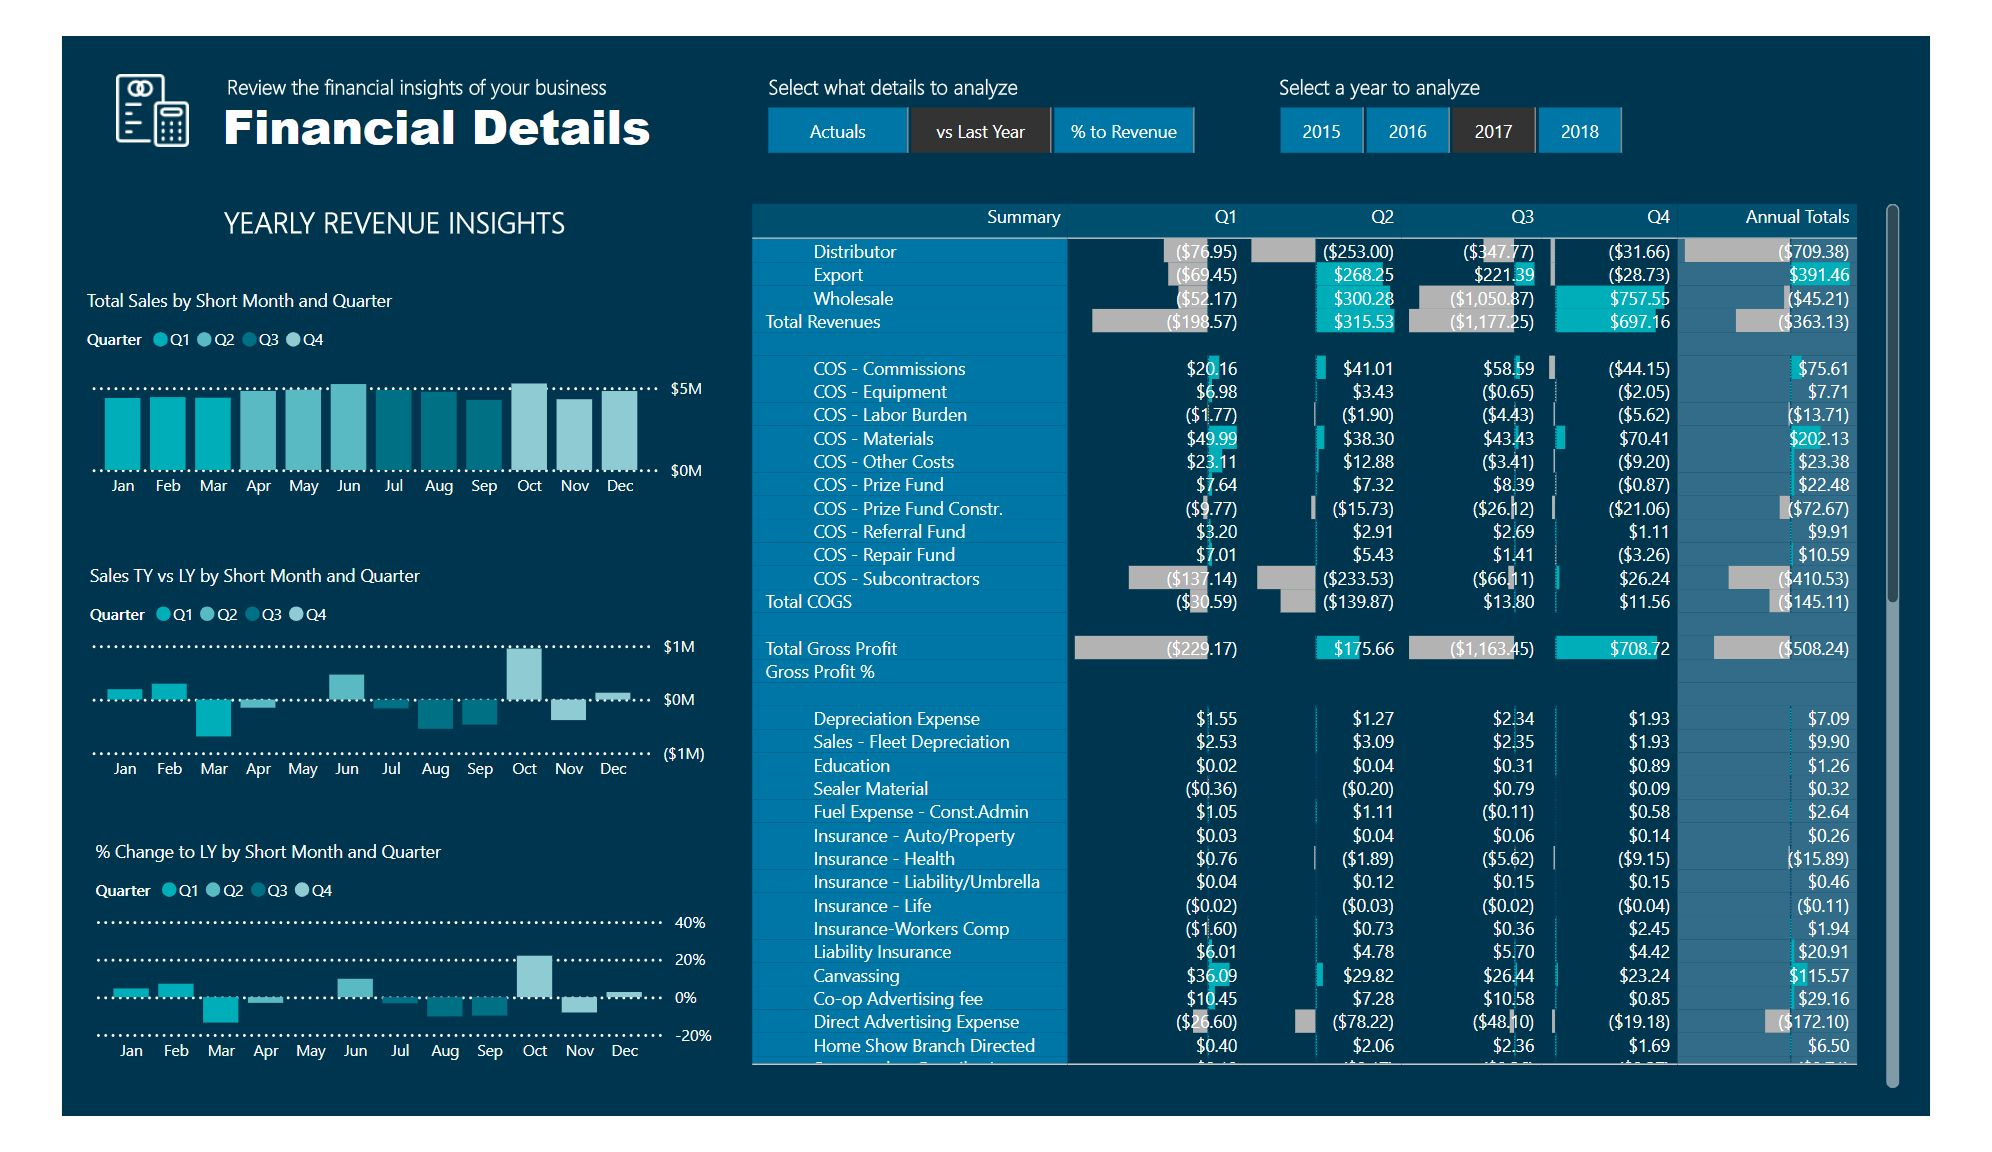

What the dashboard file says about the page in this screenshot:
{"tool":"powerbi","page":{"name":"Financial Details","canvas":[1280,720],"ordinal":2},"visuals":[{"type":"image","box":[18.3,1.1,88.2,60.2],"z":0},{"type":"textbox","box":[829.3,0,202.2,34.4],"z":1000},{"type":"textbox","box":[107.6,0,291.5,34.4],"z":2000},{"type":"textbox","box":[105.3,14.1,338.7,61.9],"z":4000},{"type":"slicer","fields":{"Values":["Dates.Year"]},"box":[808.9,21.5,284,45.2],"z":6000},{"type":"tableEx","fields":{"Values":["Income Statement Template.Row Index","Income Statement Template.Summary","Income Statement Analysis.Q1","Income Statement Analysis.Q2","Income Statement Analysis.Q3","Income Statement Analysis.Q4","Income Statement Analysis.Annual Totals"]},"box":[466.8,90.1,796.9,615.6],"z":7000},{"type":"slicer","fields":{"Values":["Income Statement Visual.Table Detail"]},"box":[458.4,21.7,341.5,45.5],"z":8000},{"type":"textbox","box":[479.1,0,202.8,34.1],"z":9000},{"type":"columnChart","fields":{"Category":["Dates.Short Month"],"Y":["Key Measures.Total Sales"],"Series":["Dates.Quarter"]},"box":[11.9,153.1,432.1,152],"z":10000},{"type":"columnChart","fields":{"Category":["Dates.Short Month"],"Series":["Dates.Quarter"],"Y":["Time Comparison.Sales TY vs LY"]},"box":[14.1,340.9,432.1,158.5],"z":11000},{"type":"columnChart","fields":{"Category":["Dates.Short Month"],"Series":["Dates.Quarter"],"Y":["Time Comparison.% Change to LY"]},"box":[18.5,529.8,432.1,161.8],"z":12000},{"type":"textbox","box":[95.5,87.9,264.9,42.3],"z":13000}]}

Visuals, with their boxes in screenshot pixels (x1, y1, x2, y2), scaled from the page's 1280x720 canvas onto the 1992x1152 screenshot:
image: 28, 2, 166, 98
textbox: 1291, 0, 1605, 55
textbox: 167, 0, 621, 55
textbox: 164, 23, 691, 122
slicer - Dates.Year: 1259, 34, 1701, 107
tableEx - Income Statement Template.Row Index x Income Statement Template.Summary: 726, 144, 1967, 1129
slicer - Income Statement Visual.Table Detail: 713, 35, 1245, 108
textbox: 746, 0, 1061, 55
columnChart - Dates.Short Month x Key Measures.Total Sales: 19, 245, 691, 488
columnChart - Dates.Short Month x Dates.Quarter: 22, 545, 694, 799
columnChart - Dates.Short Month x Dates.Quarter: 29, 848, 701, 1107
textbox: 149, 141, 561, 208
